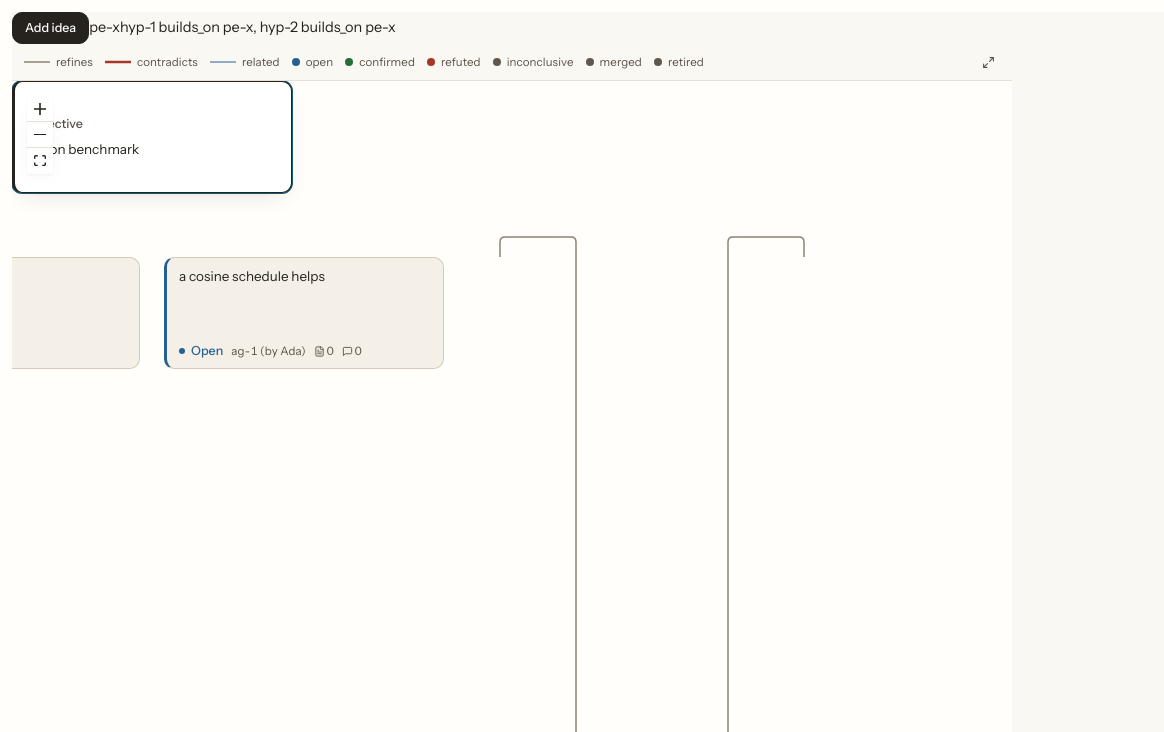
it: on the graph › adds a foundational idea under the objective, drawn in place
Click the button "Add idea" at (51, 28), box top-left (12, 12), bottom-right (89, 44)
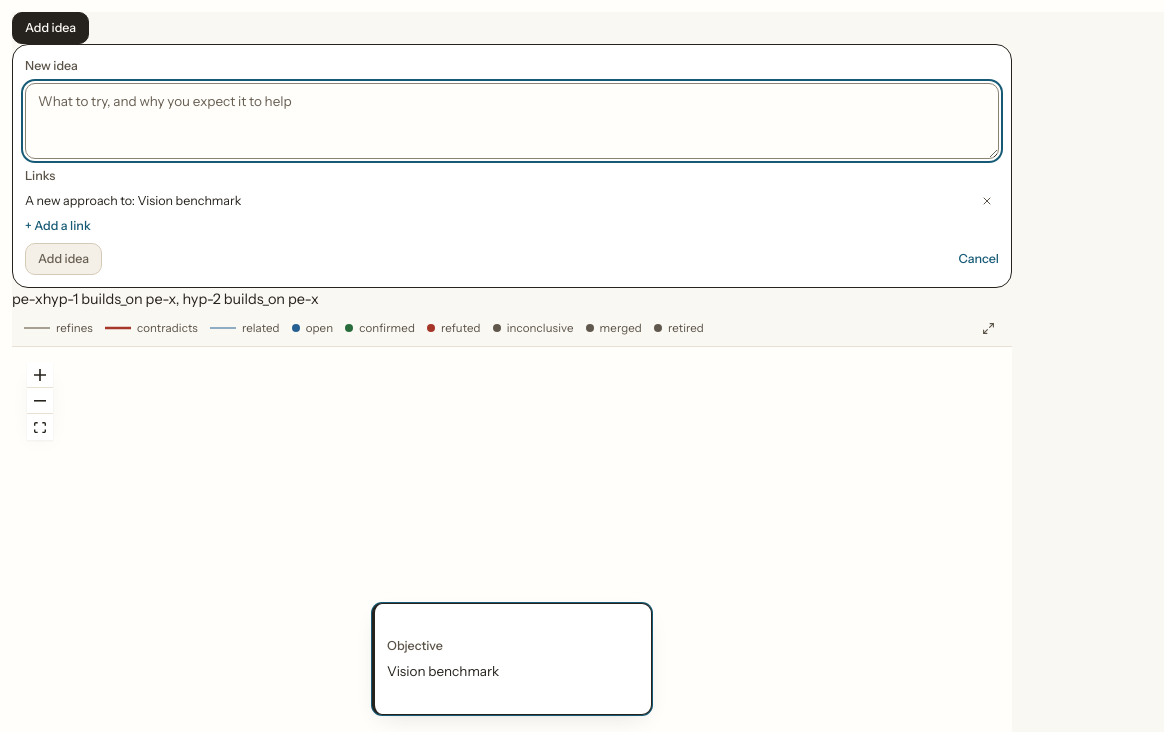
Expected: the text "A new approach to: Vision benchmark" is shown, top-left (25, 193), bottom-right (241, 208)
Type "label smoothing helps" into the text box named "Your idea" at (512, 121), box top-left (25, 83), bottom-right (999, 159)
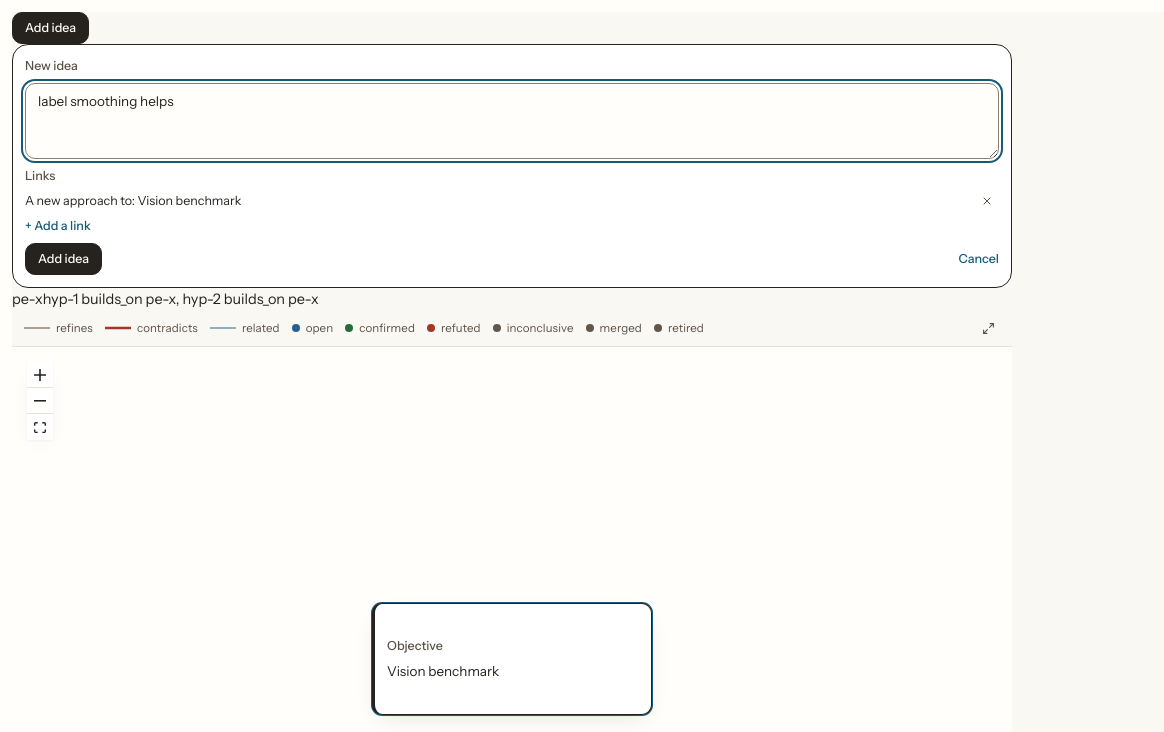
Click the button "Add idea" below "A new approach to: Vision benchmark" at (64, 259), box top-left (25, 243), bottom-right (102, 275)
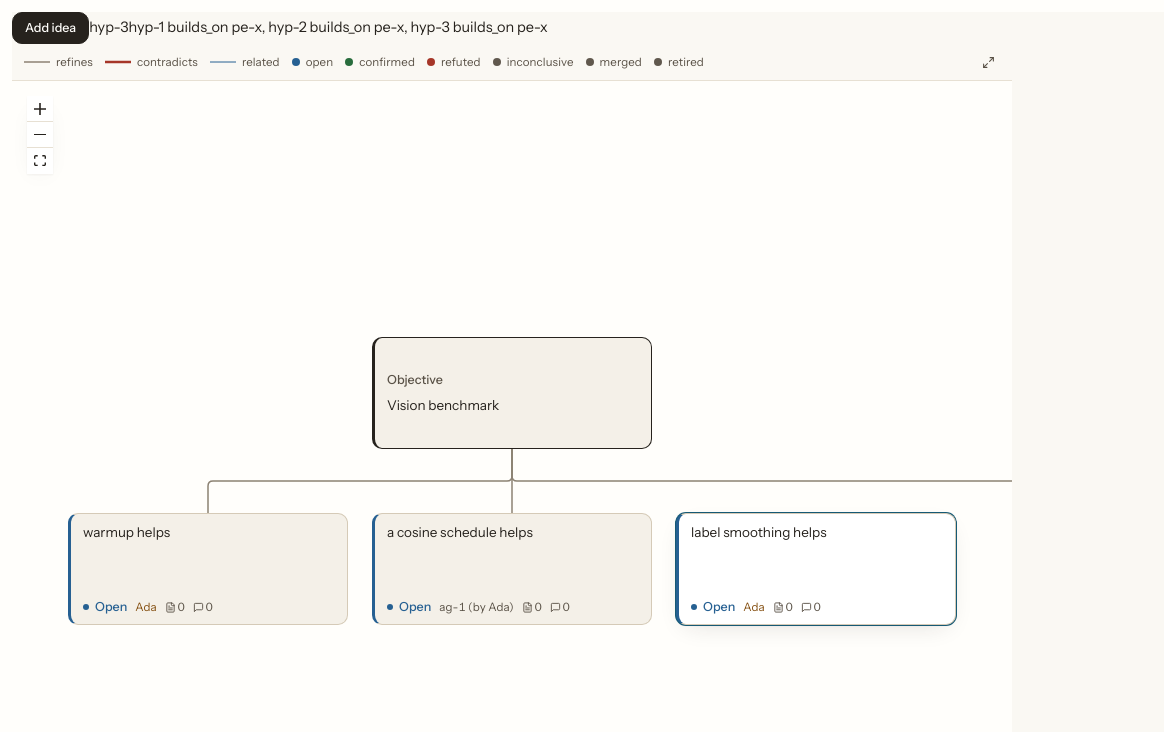
Expected: the text named "selected" reads "hyp-3", top-left (89, 18), bottom-right (128, 36)
Expected: the text "label smoothing helps" is shown, top-left (691, 524), bottom-right (827, 540)
Expected: the text "New idea" is gone
